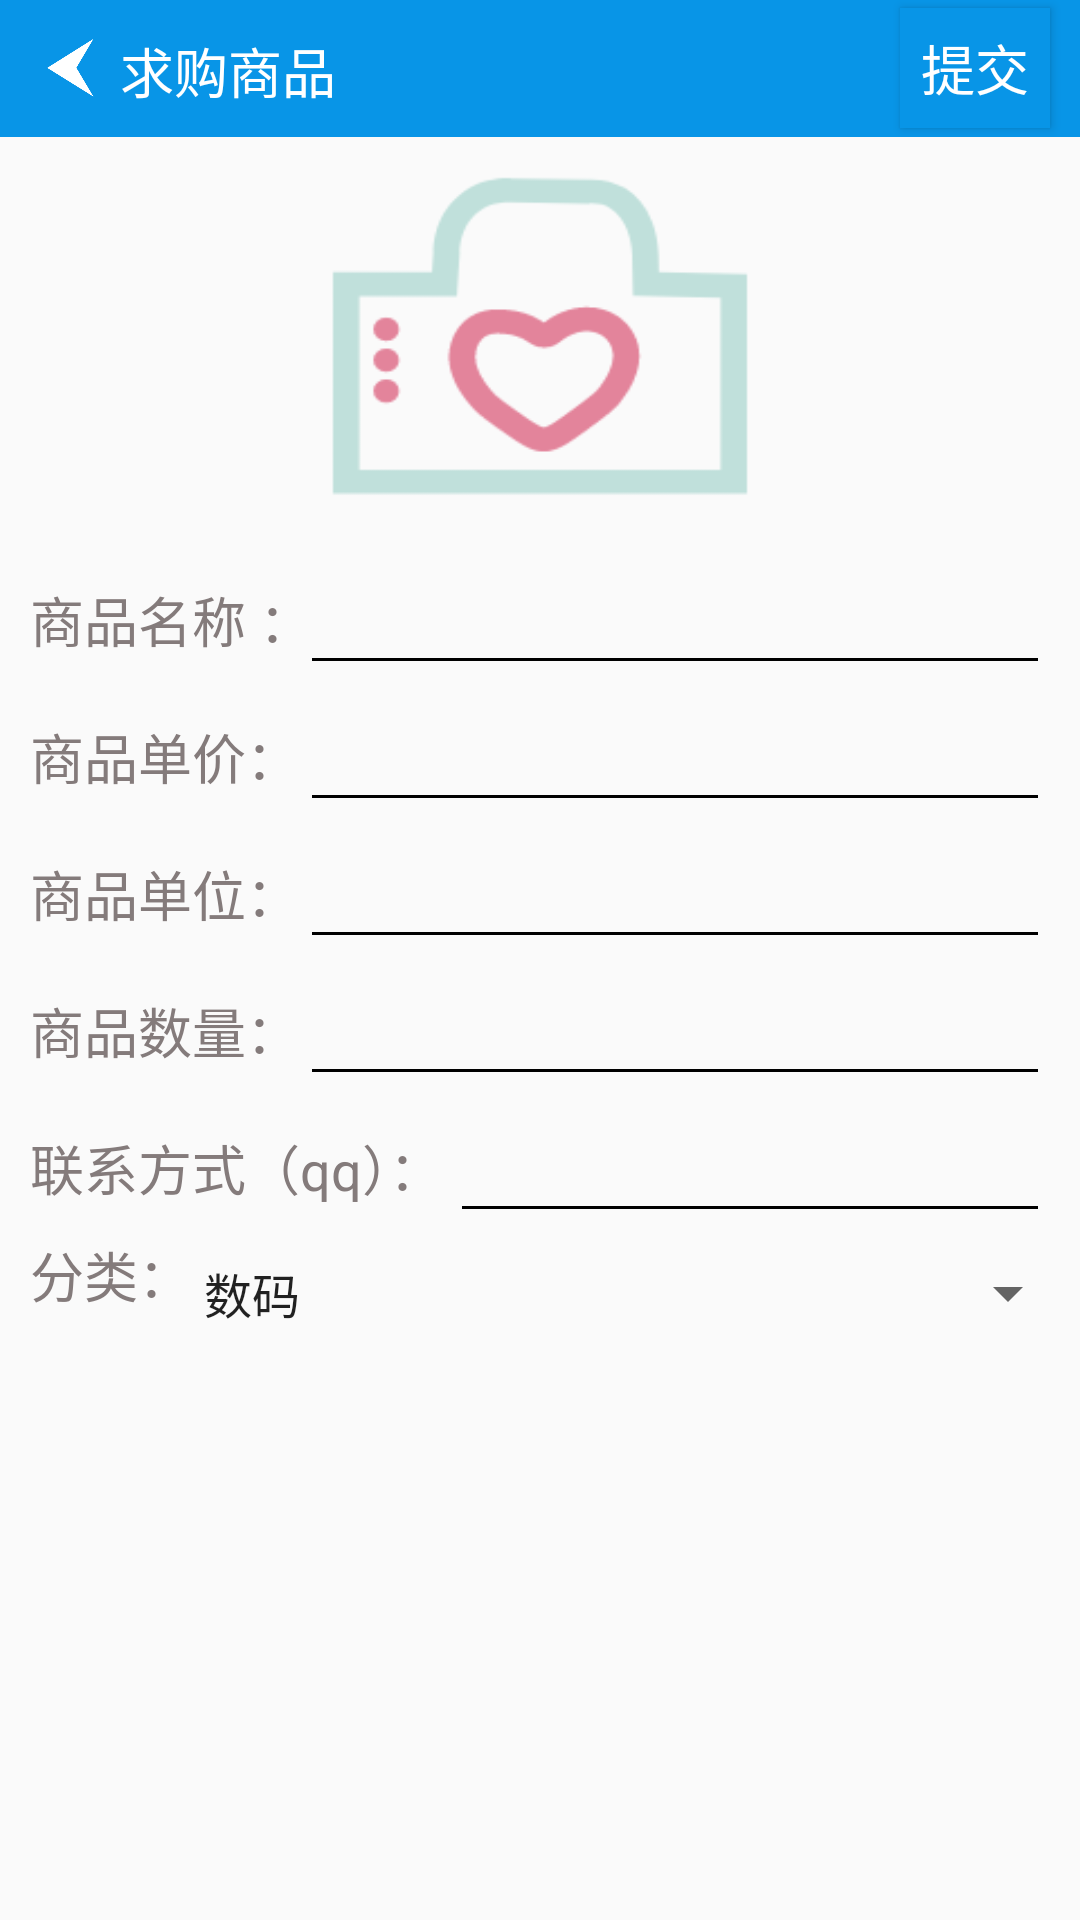

Where icons sit on this 1080*1920 app screen, as BBox(x1, y1, x2, y2):
fanhui: BBox(47, 39, 93, 96)
